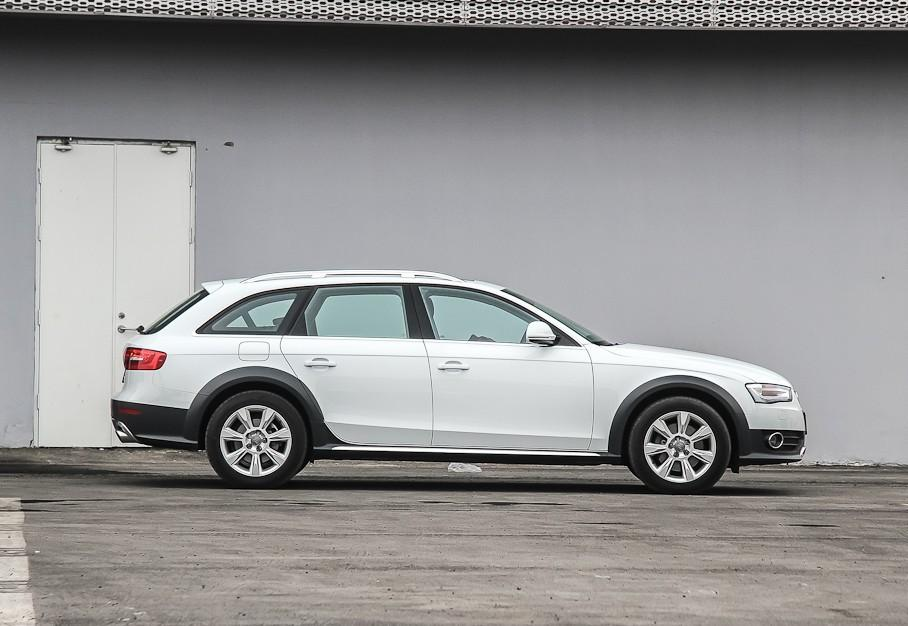Wagon: (108, 267, 810, 496)
